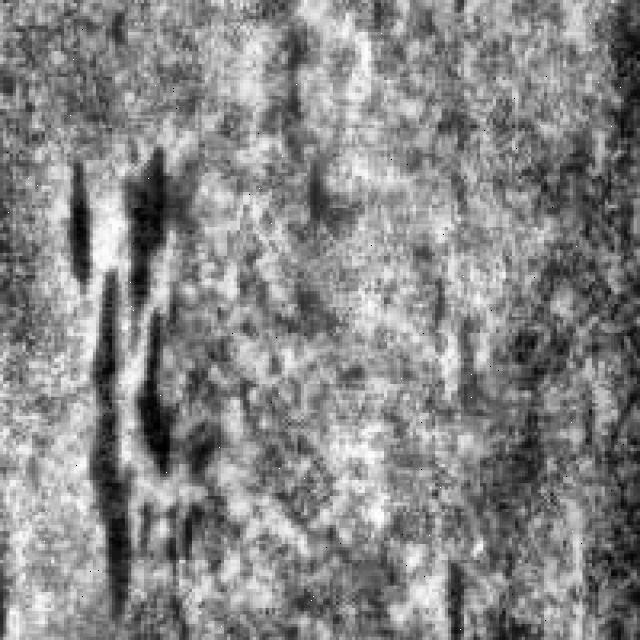Patches: (67, 134, 211, 624)
